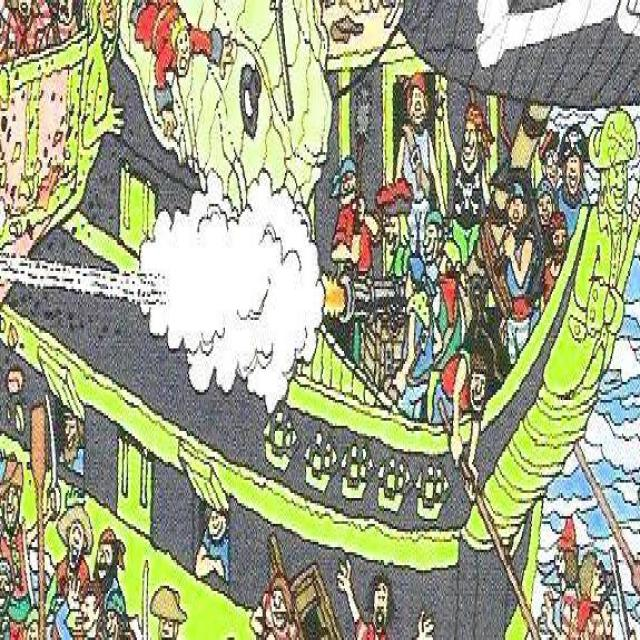waldo: (538, 129, 558, 188)
